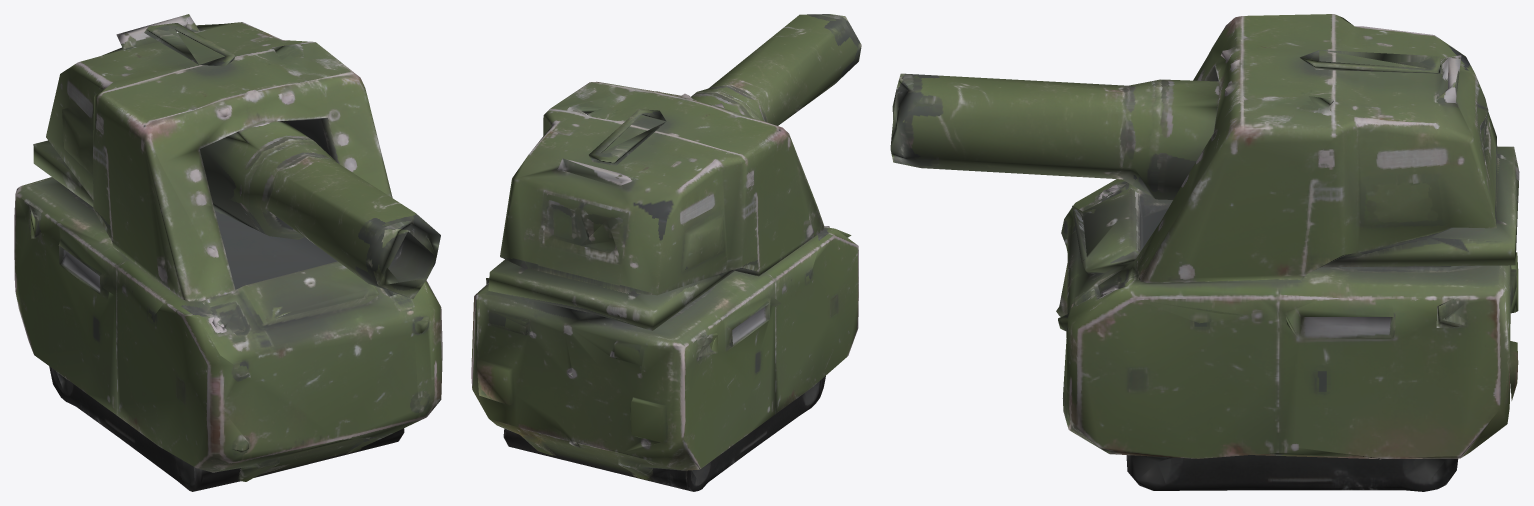
File: hullweapon-b-1-lod1.glb
The picture shows the model from 3 angles, left to right: view 1: azimuth 30°, elevation 25°; view 2: azimuth 150°, elevation 25°; view 3: azimuth 270°, elevation 25°; orthographic projection. The views are drawn at different scales.
Visible parts, largest first — view 1: Body; view 2: Body; view 3: Body.
Part boxes in pixels (x1,y1,x2,y2): Body: [14, 14, 442, 491]; Body: [471, 14, 861, 491]; Body: [890, 14, 1519, 491].
Size of the model in its own units: 0.8497 by 1.12 by 1.66.
1 material, 1 textured.
